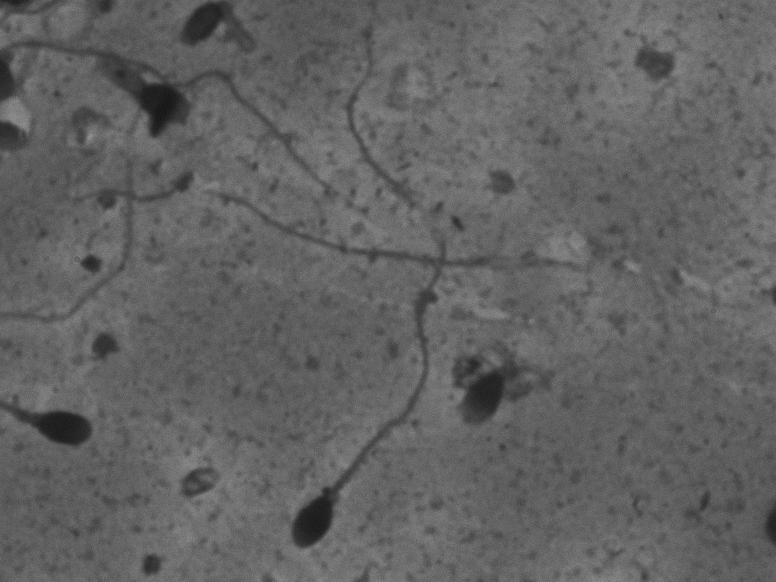Abnormal: (446, 335, 569, 452), (85, 49, 206, 156)
Normal: (276, 12, 466, 553)
